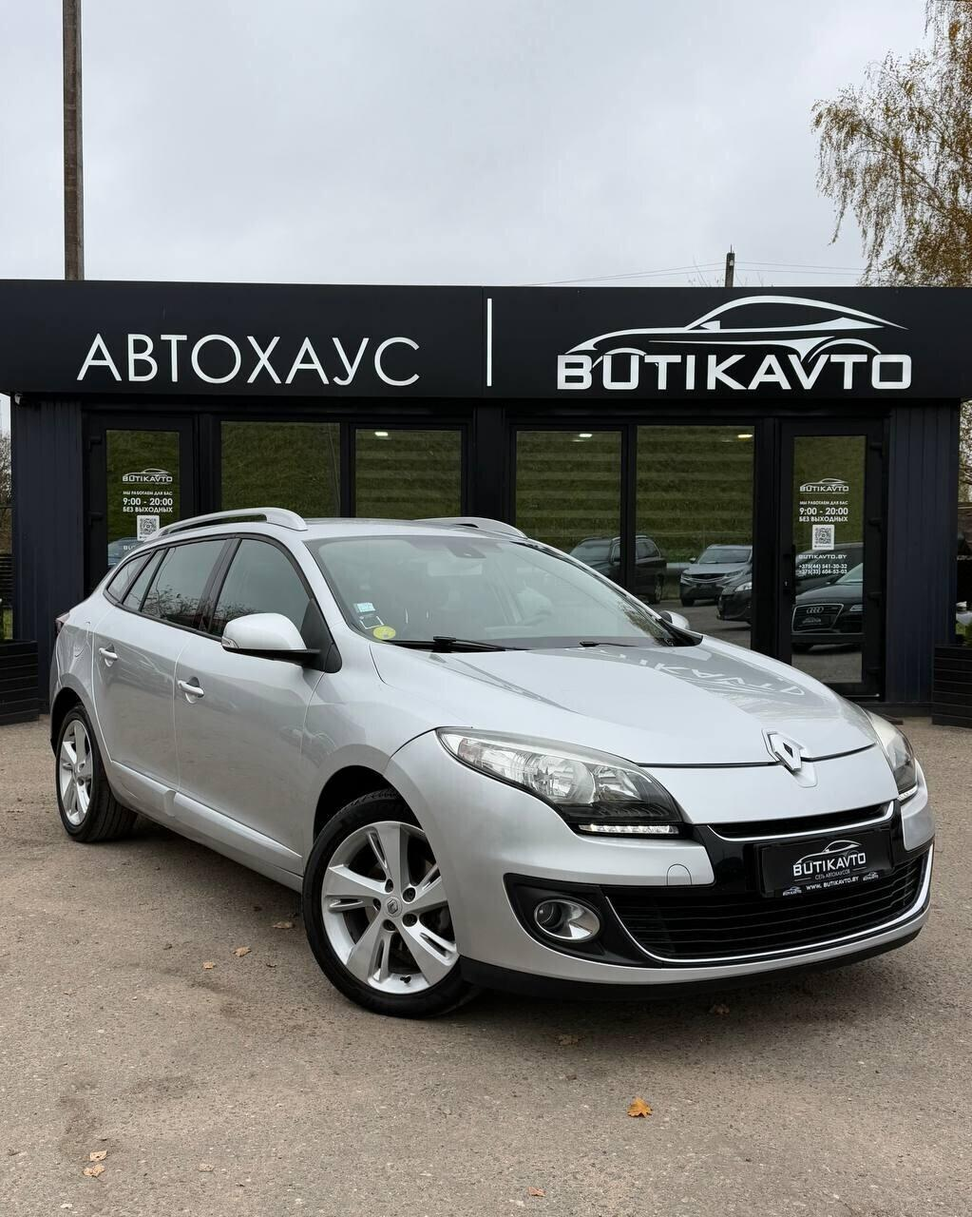Megane_2012-2014: (41, 509, 941, 1028)
